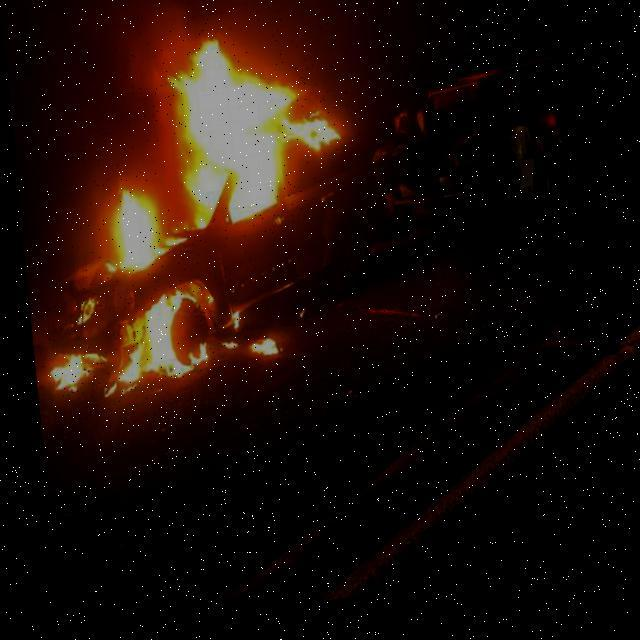Fire: (174, 28, 358, 237), (91, 296, 213, 402), (96, 192, 182, 279), (43, 349, 81, 398), (240, 341, 272, 365), (220, 309, 238, 339)
